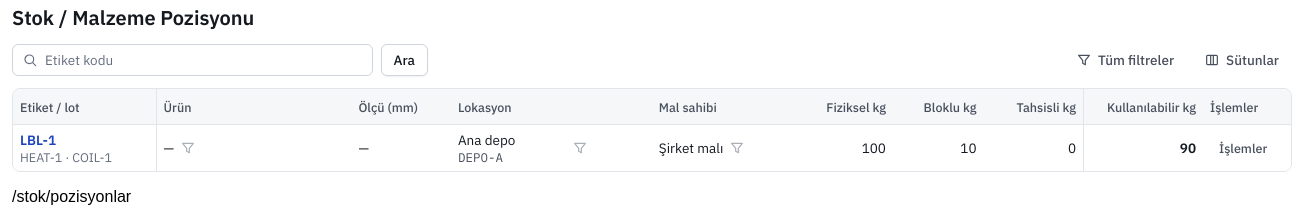
Test case: AT-063 ST-01 row actions › offers release only on a row holding active allocation kg
Step 1. Click the button with aria-label "LBL-1 işlemleri" → coordinates (1243, 148), box x1=1210 y1=134 x2=1276 y2=162
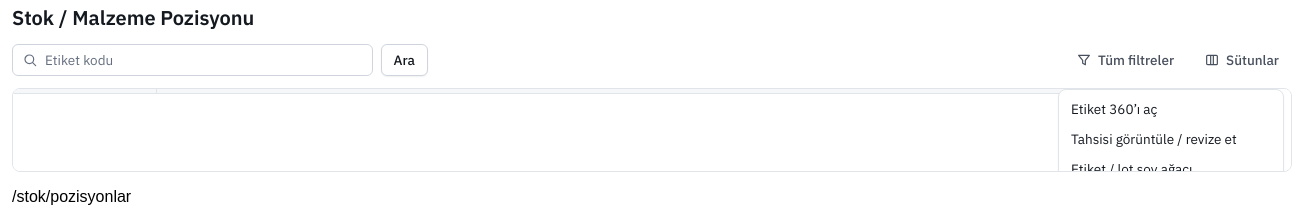
Expected: the links read "Etiket 360’ı aç", "Tahsisi görüntüle / revize et", "Etiket / lot soy ağacı", in this order, x1=1071 y1=100 x2=1157 y2=118; x1=1071 y1=130 x2=1237 y2=148; x1=1071 y1=160 x2=1192 y2=172
